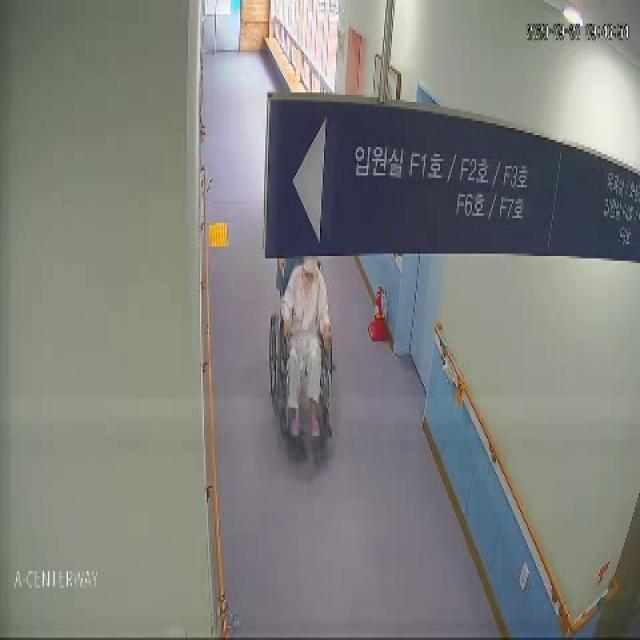patient: (282, 255, 332, 440)
sit: (282, 256, 332, 438)
